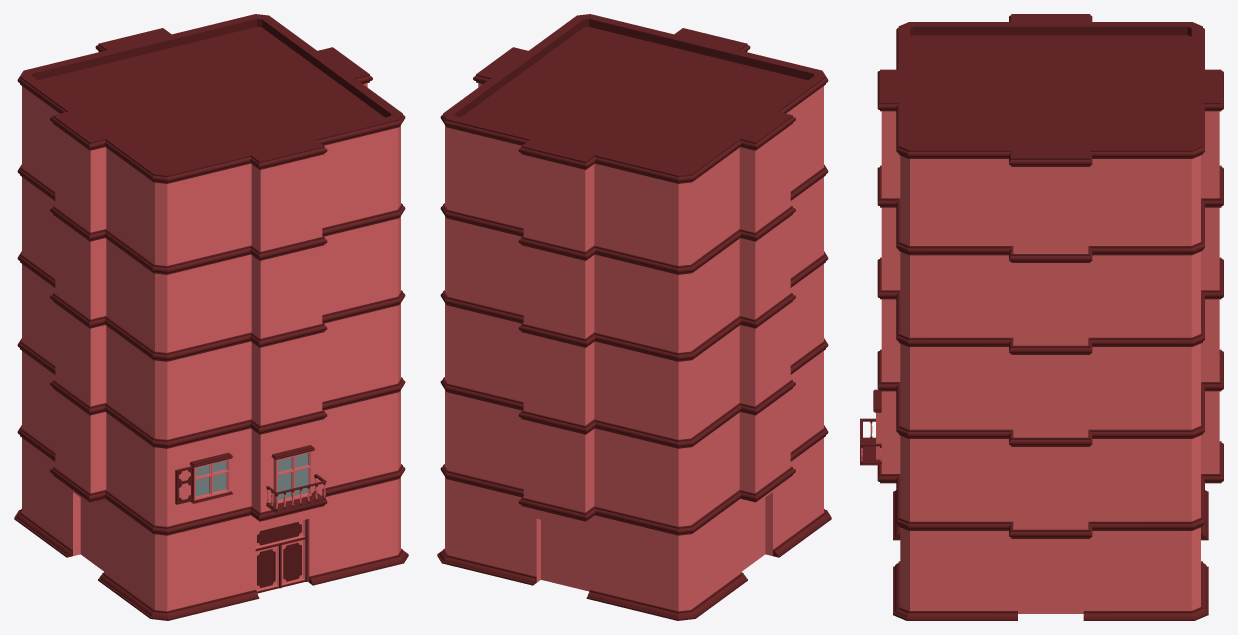
Rendered from Building_01.fbx.
3 renders of one model, left to right at view 1: azimuth 30°, elevation 25°; view 2: azimuth 150°, elevation 25°; view 3: azimuth 270°, elevation 25°, orthographic. The views are drawn at different scales.
Visible parts, largest first — view 1: Building_01, Building_01_Door, Building_01_Door_Balcony, Building_01_Windows, Building_01_Balcony, Building_01_Window_Blinds; view 2: Building_01; view 3: Building_01, Building_01_Balcony.
Boxes of the visible parts, box(x1,y1,x2,y2) form: Building_01: box(14, 14, 408, 620); Building_01_Door: box(255, 519, 307, 593); Building_01_Door_Balcony: box(271, 445, 315, 503); Building_01_Windows: box(189, 452, 233, 503); Building_01_Balcony: box(266, 474, 326, 512); Building_01_Window_Blinds: box(175, 466, 194, 504); Building_01: box(437, 14, 831, 620); Building_01: box(877, 14, 1223, 620); Building_01_Balcony: box(860, 418, 881, 465).
Bounding box in the file's own units: 1844 × 2750 × 1937.
